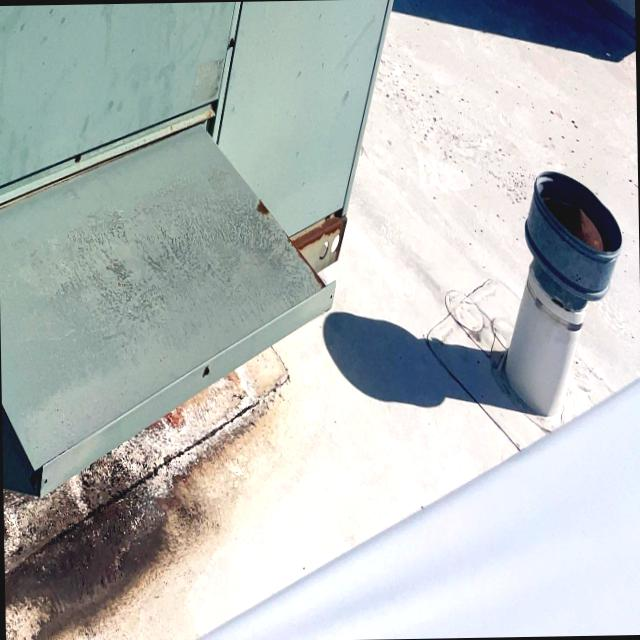GRAVITY-VENT: (489, 157, 628, 426)
RTU: (0, 0, 440, 640)
